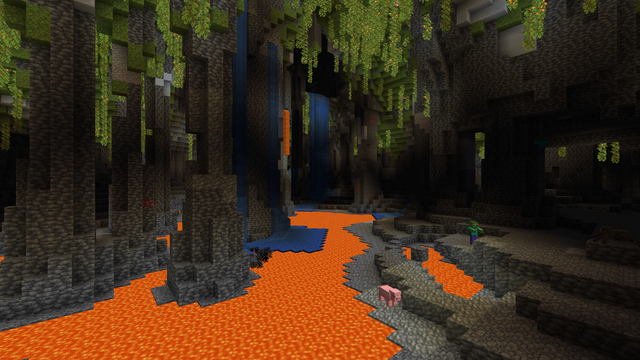araignees: (594, 224, 631, 246)
cochons: (377, 284, 397, 307)
zombies: (468, 221, 478, 244), (536, 136, 545, 156)
